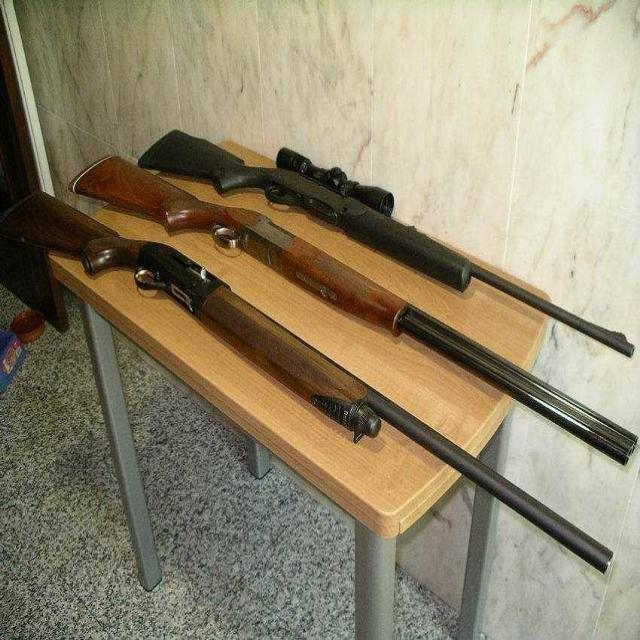weapon: (2, 172, 618, 588)
